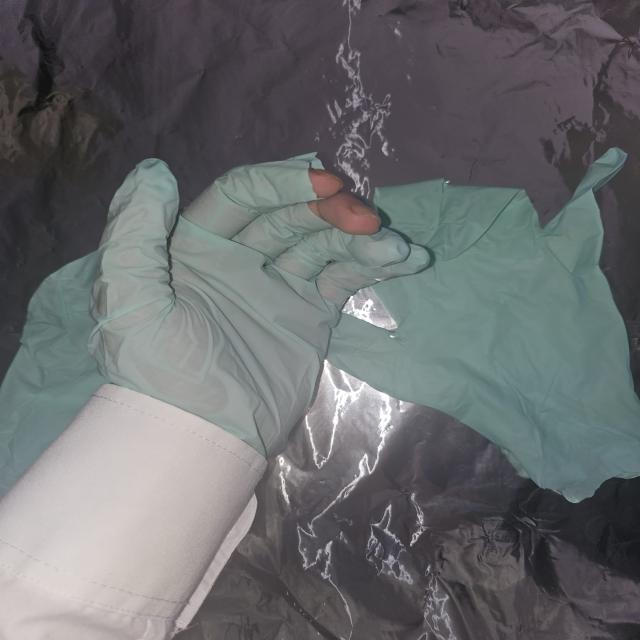gloves_damaged: (95, 148, 438, 462)
